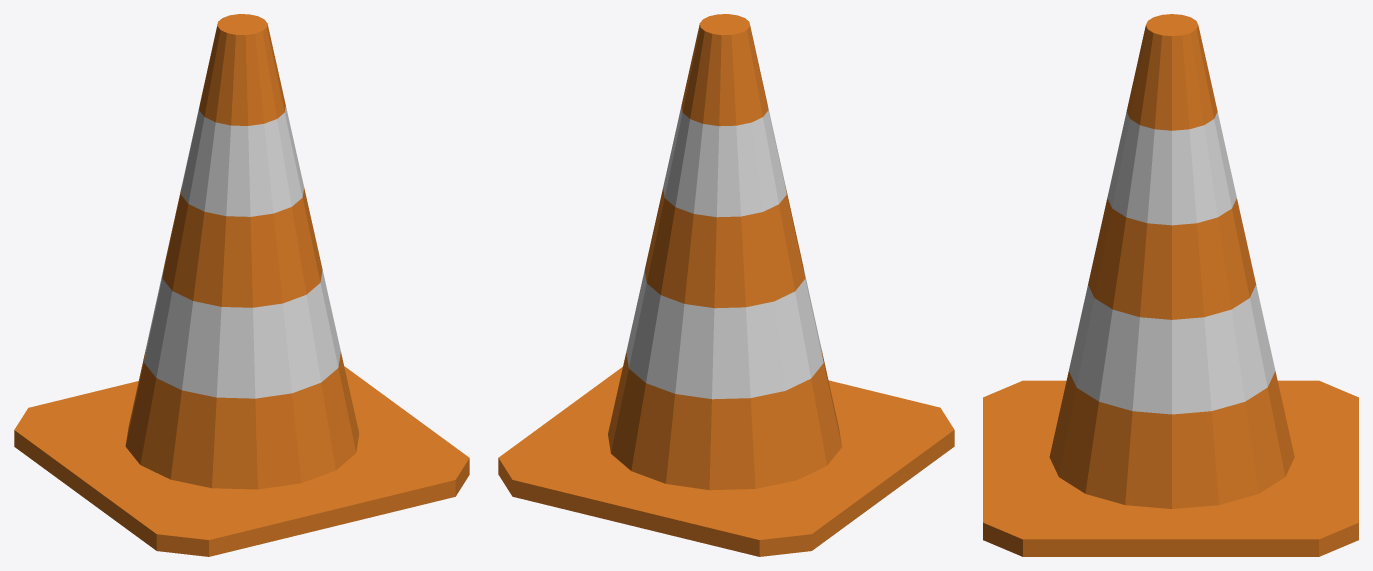
The model's file is roadCone.fbx.
The picture shows the model from 3 angles, left to right: view 1: azimuth 30°, elevation 25°; view 2: azimuth 150°, elevation 25°; view 3: azimuth 270°, elevation 25°; orthographic projection. The views are drawn at different scales.
Visible parts, largest first — view 1: Cylinder; view 2: Cylinder; view 3: Cylinder.
Part boxes in pixels (x1,y1,x2,y2): Cylinder: (14,14,469,556); Cylinder: (498,14,954,556); Cylinder: (983,14,1358,556).
Size of the model in its own units: 47.19 by 62.75 by 47.19.
